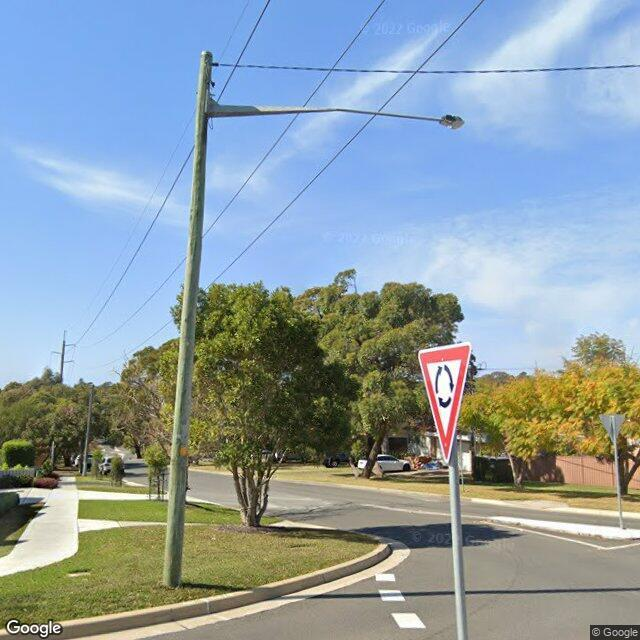HV-transmission: (50, 330, 76, 364)
streetlight: (205, 104, 464, 130)
timber-pole: (159, 47, 214, 588), (82, 384, 94, 477), (60, 339, 66, 380)
